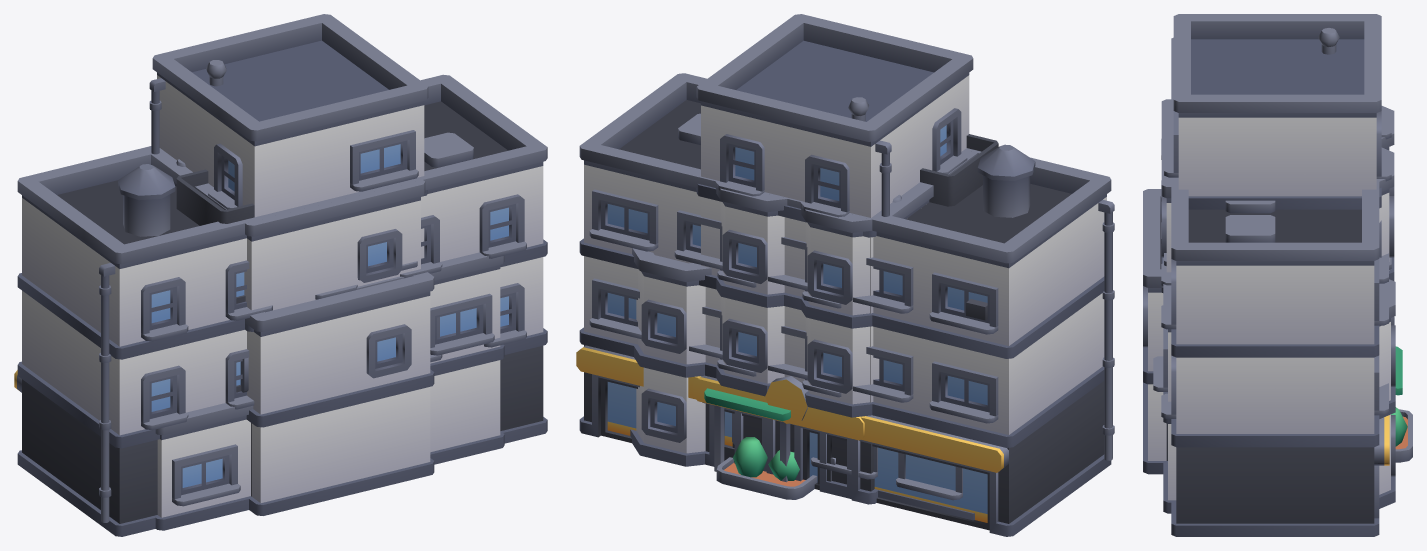
Rendered from city.glb.
The picture shows the model from 3 angles, left to right: view 1: azimuth 30°, elevation 25°; view 2: azimuth 150°, elevation 25°; view 3: azimuth 270°, elevation 25°; orthographic projection.
Parts seen in each view (by area): view 1: building-k, building-g, building-c, building-e, building-a; view 2: building-k, building-g, building-a, building-e, building-c; view 3: building-k, building-g, building-c, building-e, building-a.
Part boxes in pixels (x1,y1,x2,y2): building-k: (14,74,547,536); building-g: (149,14,428,392); building-c: (240,272,434,515); building-e: (154,252,504,530); building-a: (151,151,425,496); building-k: (576,73,1114,536); building-g: (693,14,998,504); building-a: (715,150,977,417); building-e: (630,248,974,520); building-c: (716,413,817,499); building-k: (1161,37,1394,536); building-g: (1164,14,1391,269); building-c: (1143,189,1412,474); building-e: (1153,257,1402,513); building-a: (1161,99,1394,460).
Size of the model in its own units: 2.08 by 1.69 by 1.09.
Materials: 1 (1 with a texture image).
